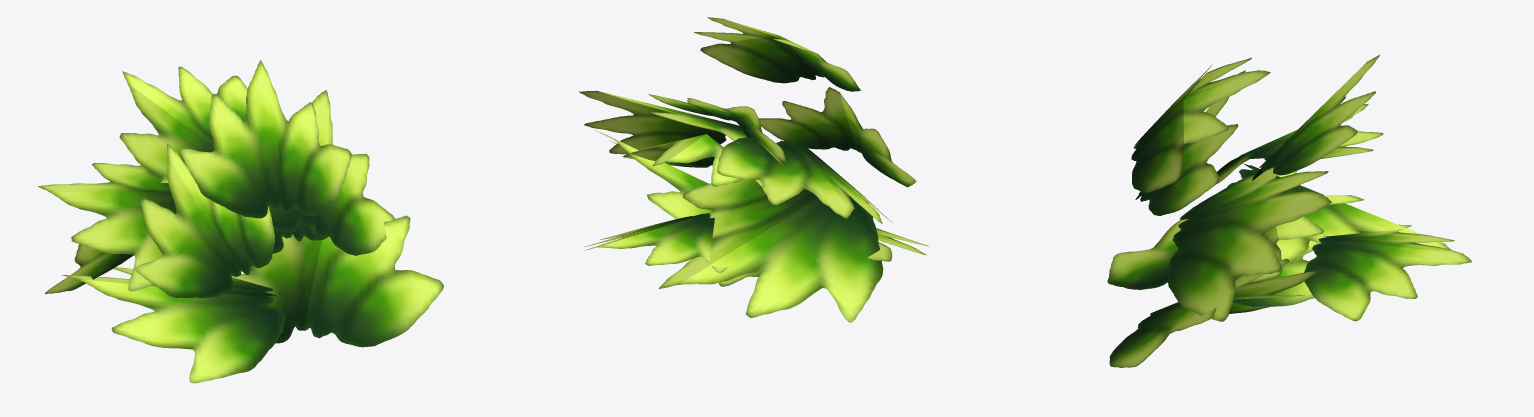
File: hua13.FBX
3 renders of one model, left to right at view 1: azimuth 30°, elevation 25°; view 2: azimuth 150°, elevation 25°; view 3: azimuth 270°, elevation 25°, orthographic. The views are drawn at different scales.
Parts seen in each view (by area): view 1: hua10; view 2: hua10; view 3: hua10.
Boxes of the visible parts, x1,y1,x2,y2 form: hua10: [38, 60, 443, 383]; hua10: [579, 17, 929, 322]; hua10: [1107, 55, 1472, 367].
Size of the model in its own units: 77.38 by 47.85 by 64.16.
